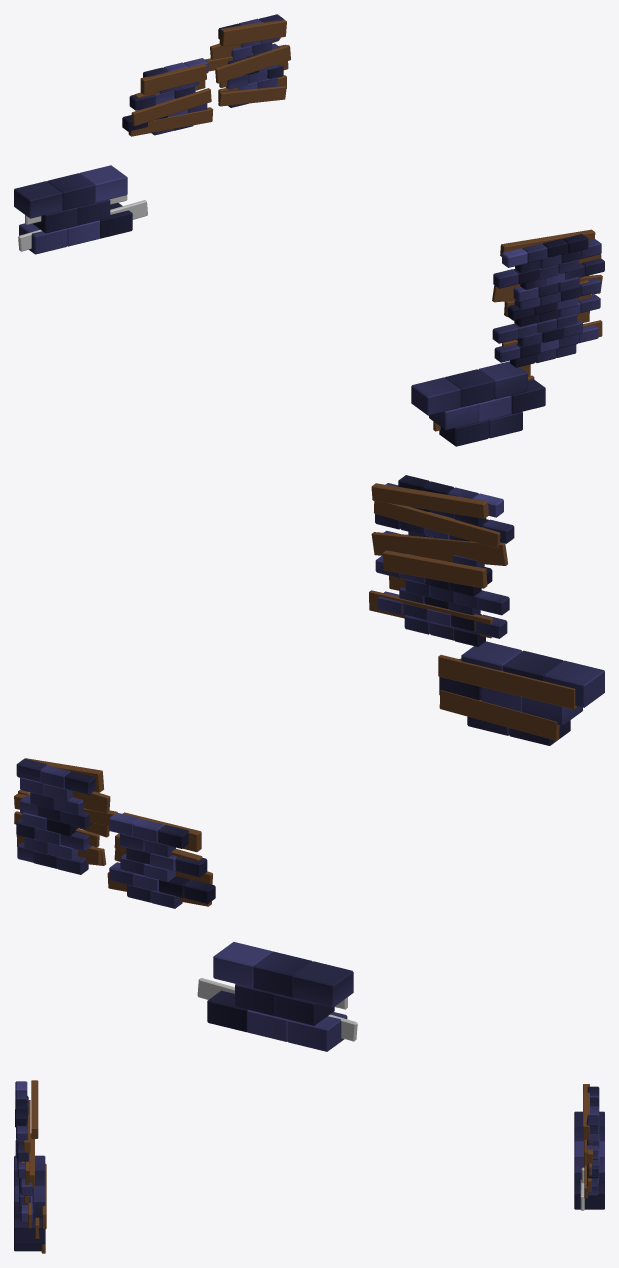
The model's file is Patches_02.fbx.
The picture shows the model from 3 angles, top to bottom: view 1: azimuth 30°, elevation 25°; view 2: azimuth 150°, elevation 25°; view 3: azimuth 270°, elevation 25°; orthographic projection. The views are drawn at different scales.
Visible parts, largest first — view 1: Brick664, Brick666, Wooden680, Wooden679, Wooden674, Brick662, Wooden676, Brick663, Brick672, Brick665, Wooden673, Wooden683 (+12 smaller); view 2: Wooden694, Wooden685, Wooden696, Wooden684, Wooden687, Brick666, Wooden686, Brick672, Brick665, Brick664, Brick668, Brick671 (+8 smaller); view 3: Brick658, Brick667, Brick663, Brick665, Wooden687, Wooden679, Wooden684, Brick662.
Part boxes in pixels (x1,y1,x2,y2): Brick664: (411,377,460,415); Brick666: (14,181,62,218); Wooden680: (215,45,290,83); Wooden679: (219,19,286,46); Wooden674: (131,88,211,126); Brick662: (445,369,493,407); Wooden676: (140,63,206,94); Brick663: (478,361,527,399); Brick672: (47,173,95,210); Brick665: (79,165,127,202); Wooden673: (128,107,213,136); Wooden683: (218,85,286,106); Wooden694: (438,655,576,709); Wooden685: (371,532,507,565); Wooden696: (439,690,559,740); Wooden684: (382,550,487,588); Wooden687: (371,483,488,518); Brick666: (293,961,353,1007); Wooden686: (374,501,500,548); Brick672: (253,951,312,997); Brick665: (213,942,272,987); Brick664: (544,660,604,707); Brick668: (287,1012,347,1051); Brick671: (274,993,334,1025); Brick658: (14,1218,45,1244); Brick667: (574,1182,604,1209); Brick663: (14,1186,45,1218); Brick665: (574,1141,604,1172); Wooden687: (31,1080,38,1138); Wooden679: (583,1092,589,1139); Wooden684: (29,1133,34,1187); Brick662: (14,1170,45,1186).
Bounding box in the file's own units: 14.52 × 8.7 × 27.87.
